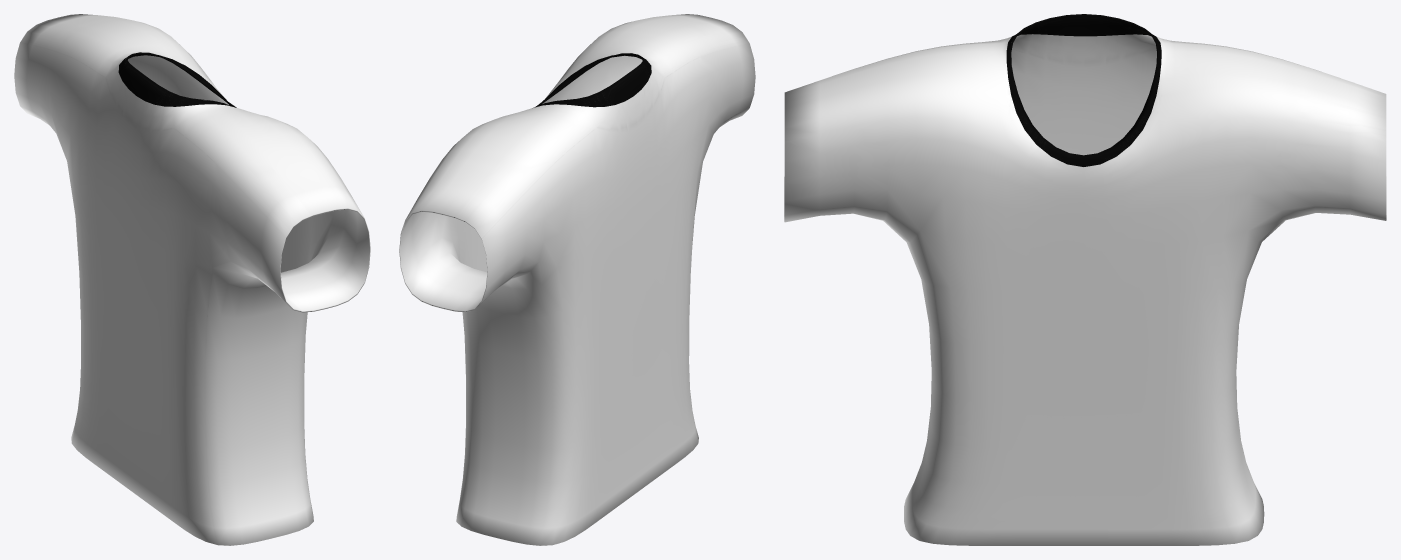
Rendered from Clothe1.fbx.
The picture shows the model from 3 angles, left to right: view 1: azimuth 30°, elevation 25°; view 2: azimuth 150°, elevation 25°; view 3: azimuth 270°, elevation 25°; orthographic projection. The views are drawn at different scales.
Parts seen in each view (by area): view 1: Cube; view 2: Cube; view 3: Cube.
Boxes of the visible parts, x1=… form: Cube: x1=14, y1=14, x2=370, y2=545; Cube: x1=399, y1=14, x2=755, y2=545; Cube: x1=784, y1=14, x2=1386, y2=545.
Size of the model in its own units: 84.13 by 272 by 313.
Materials: 1 (1 with a texture image).
